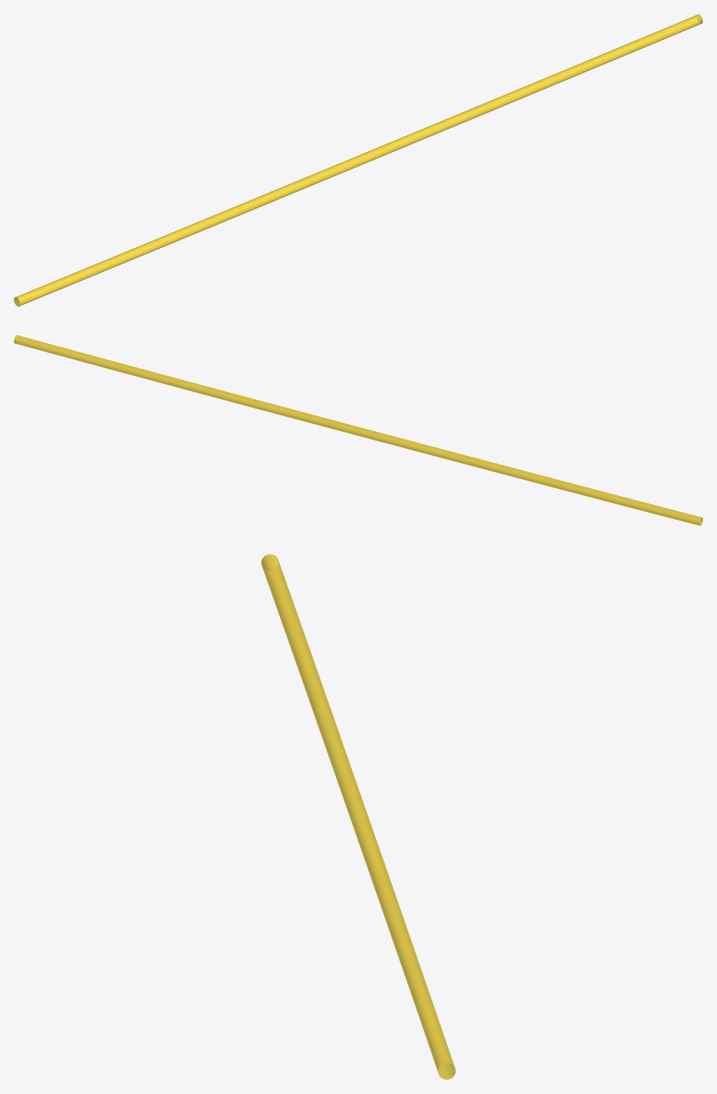
Rendered from Event_40932208_track_20.fbx.
3 views of the same model, one above another, from view 1: azimuth 30°, elevation 25°; view 2: azimuth 150°, elevation 25°; view 3: azimuth 270°, elevation 25° (orthographic). The views are drawn at different scales.
Visible parts, largest first — view 1: Model; view 2: Model; view 3: Model.
Part boxes in pixels (x1,y1,x2,y2): Model: (14, 14, 702, 306); Model: (14, 335, 702, 525); Model: (261, 554, 455, 1079).
Bounding box in the file's own units: 3.35 × 0.3314 × 0.4402.
